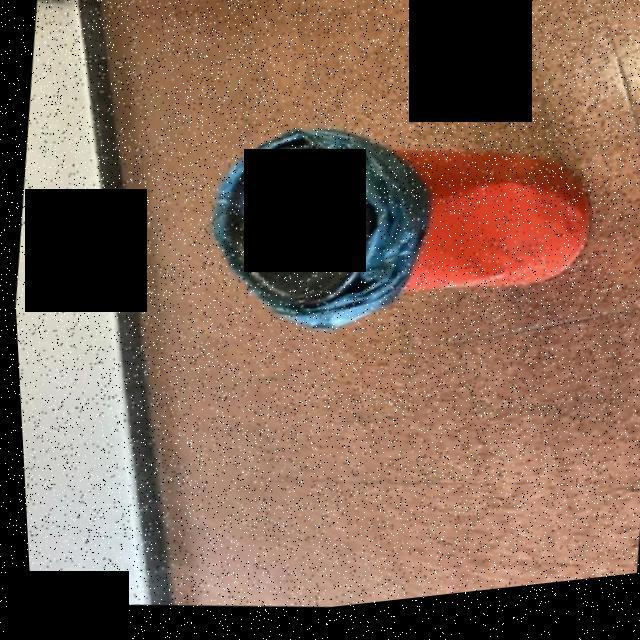bin: (146, 65, 627, 417)
